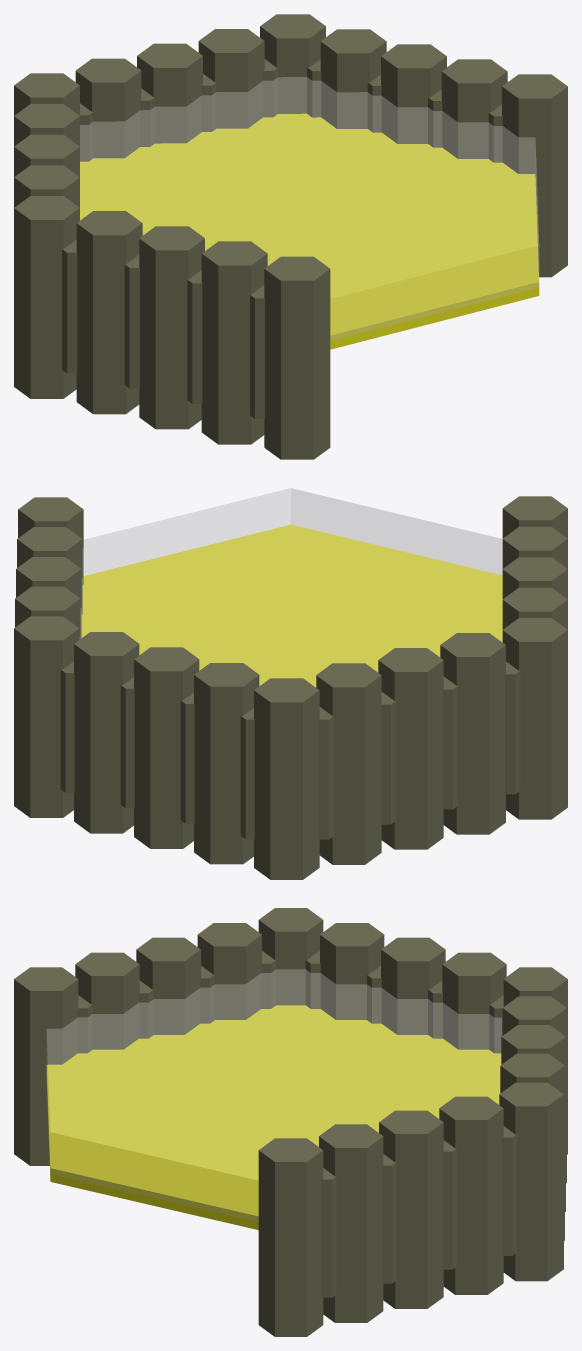
The model's file is Tatles1.fbx_Titel_Voda_4.fbx.
The picture shows the model from 3 angles, top to bottom: view 1: azimuth 30°, elevation 25°; view 2: azimuth 150°, elevation 25°; view 3: azimuth 270°, elevation 25°; orthographic projection. The views are drawn at different scales.
Parts seen in each view (by area): view 1: Stena_4, Voda.003, Dno.003; view 2: Stena_4, Voda.003, Dno.003; view 3: Stena_4, Voda.003, Dno.003.
Boxes of the visible parts, left/top/right/bottom form: Stena_4: left=14, top=14, right=567, bottom=459; Voda.003: left=80, top=77, right=539, bottom=340; Dno.003: left=80, top=113, right=539, bottom=349; Stena_4: left=14, top=496, right=567, bottom=879; Voda.003: left=79, top=488, right=502, bottom=686; Dno.003: left=81, top=524, right=502, bottom=687; Stena_4: left=14, top=908, right=567, bottom=1336; Voda.003: left=47, top=969, right=501, bottom=1221; Dno.003: left=46, top=1005, right=501, bottom=1229.
Bounding box in the file's own units: 20.05 × 6.47 × 18.31.
